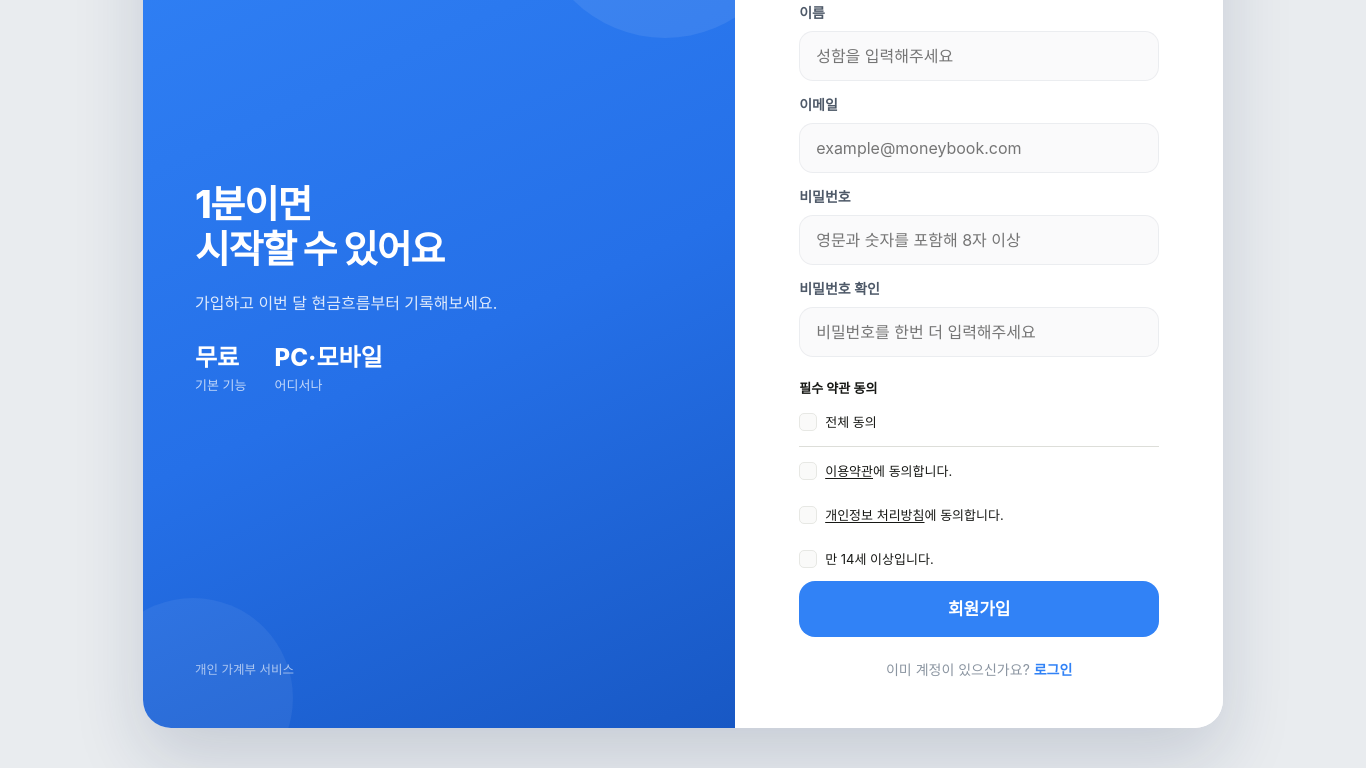
SignupPage legal consent validation › shows inline errors instead of an alert when required fields are empty
(page scrolled)
Click the button "회원가입" at (979, 609), box [799,581,1159,637]
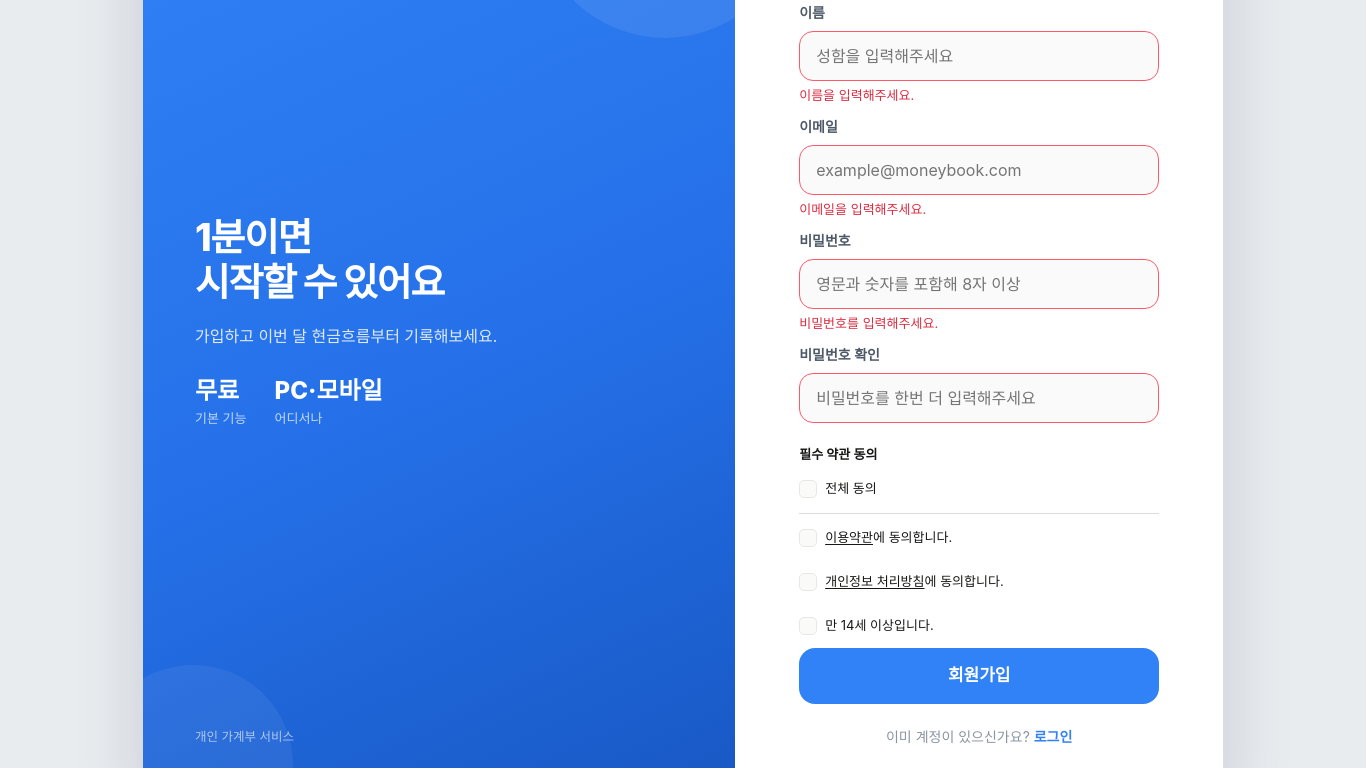
expect the text "이름을 입력해주세요." is shown: met, box [799,87,914,103]
expect the text "이메일을 입력해주세요." is shown: met, box [799,201,926,217]
expect the text "비밀번호를 입력해주세요." is shown: met, box [799,315,938,331]
